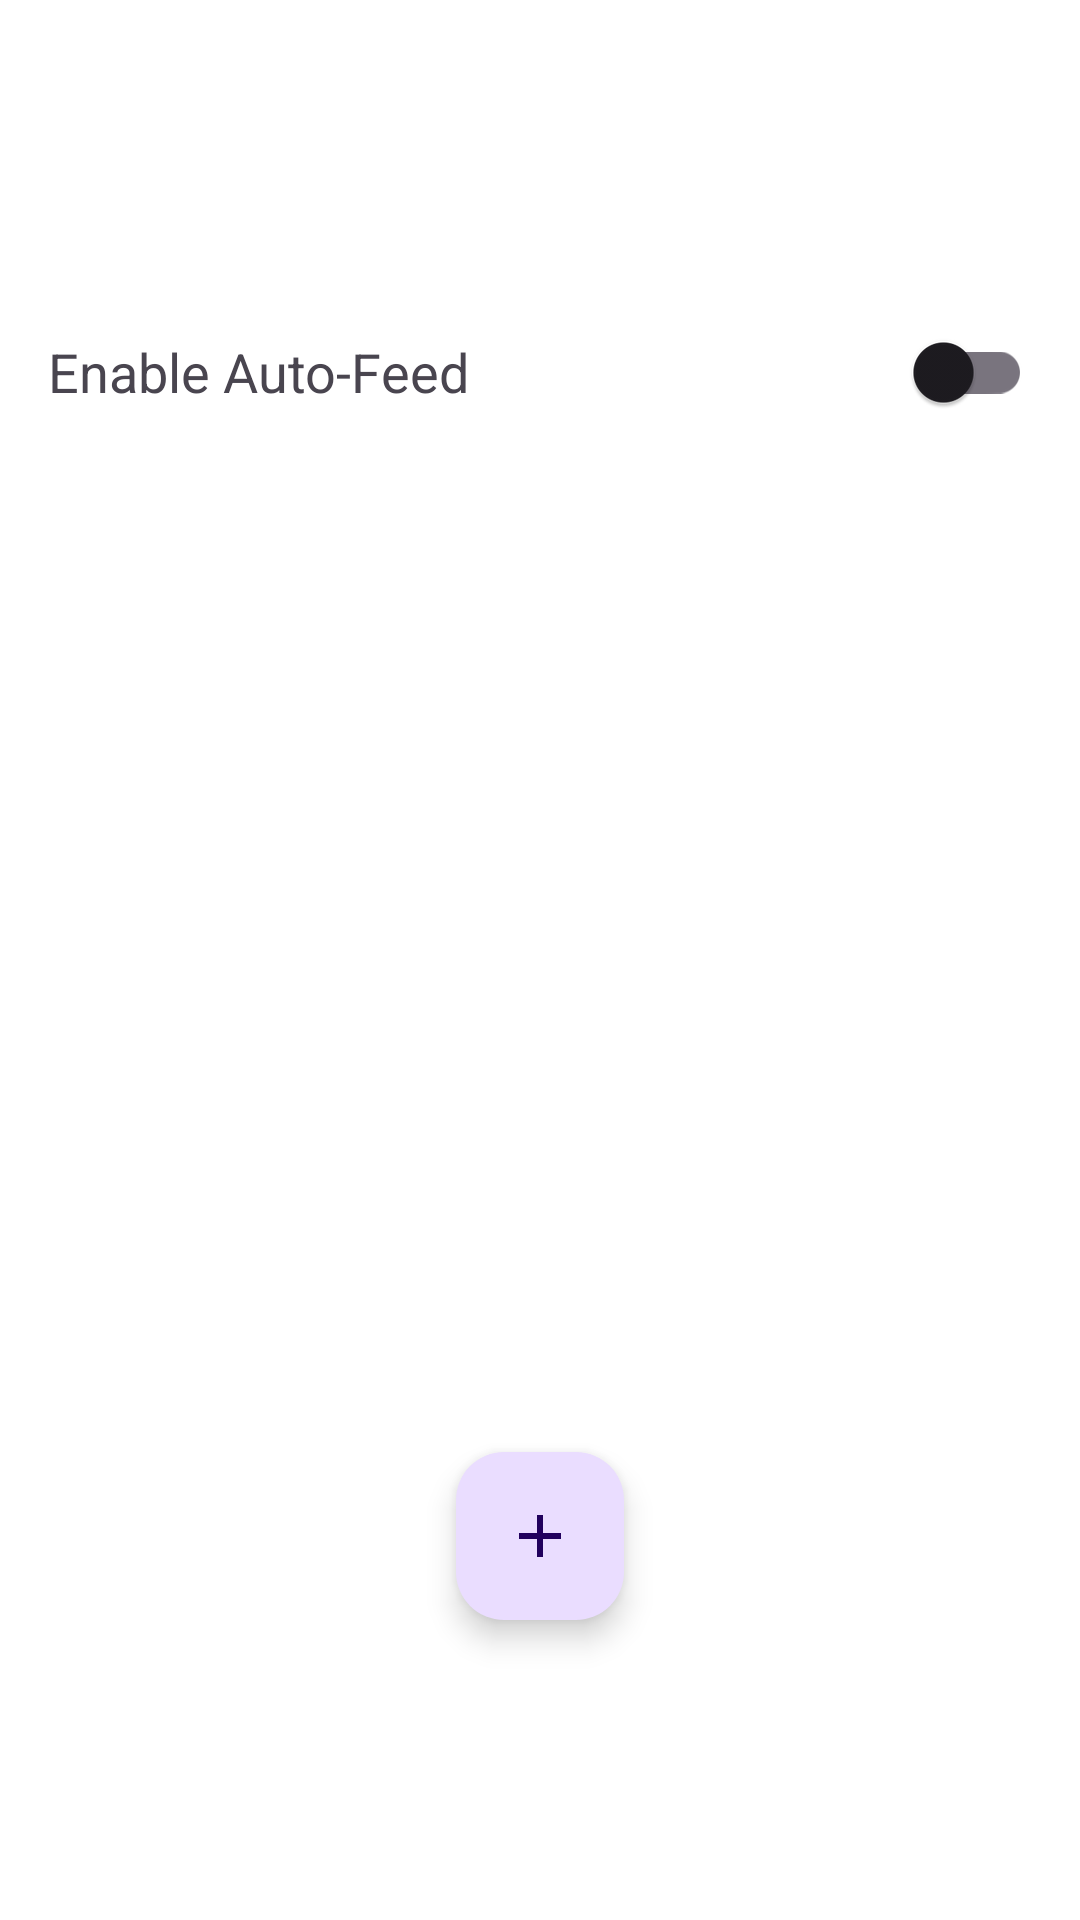

Icons on this 1080 x 1920 Android screen, each with the point to tap as (x,y):
add: (540,1536)
